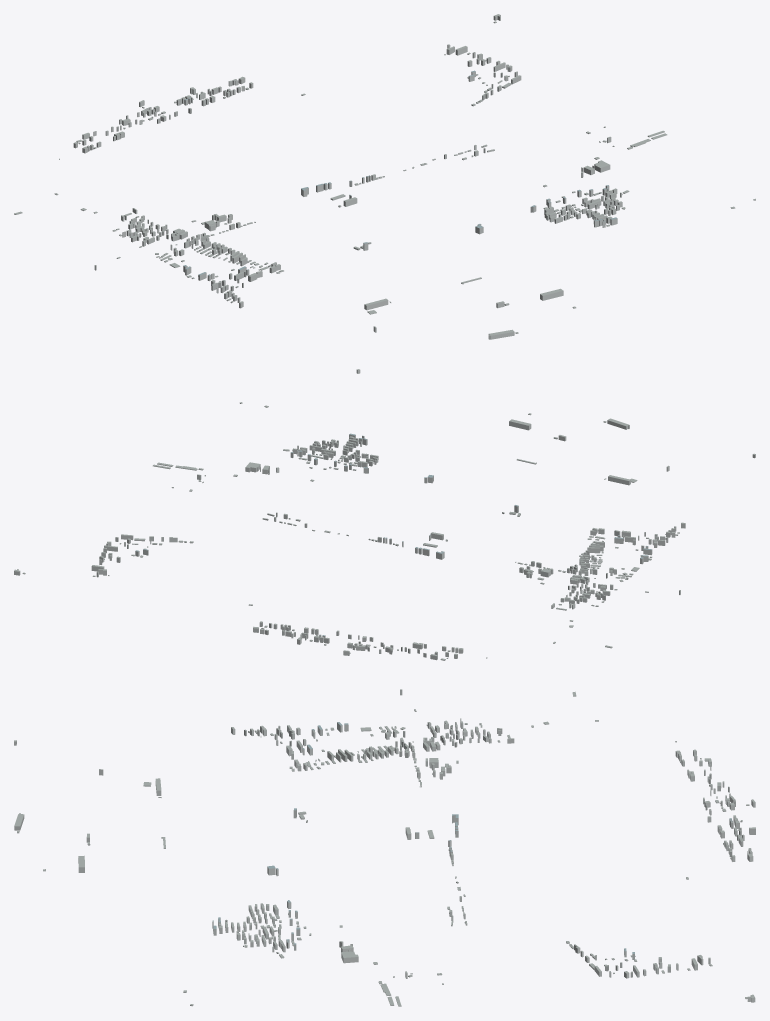
File: far.glb
The picture shows the model from 3 angles, top to bottom: view 1: azimuth 30°, elevation 25°; view 2: azimuth 150°, elevation 25°; view 3: azimuth 270°, elevation 25°; orthographic projection. The views are drawn at different scales.
Size of the model in its own units: 2001 by 24 by 1997.
